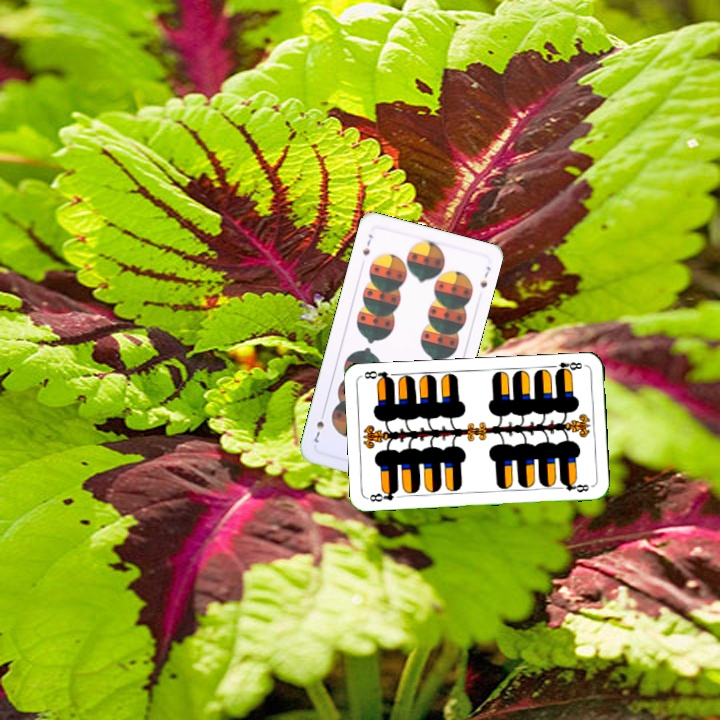E8: (547, 358, 584, 377), (365, 485, 401, 504)
S7: (358, 230, 375, 258)
